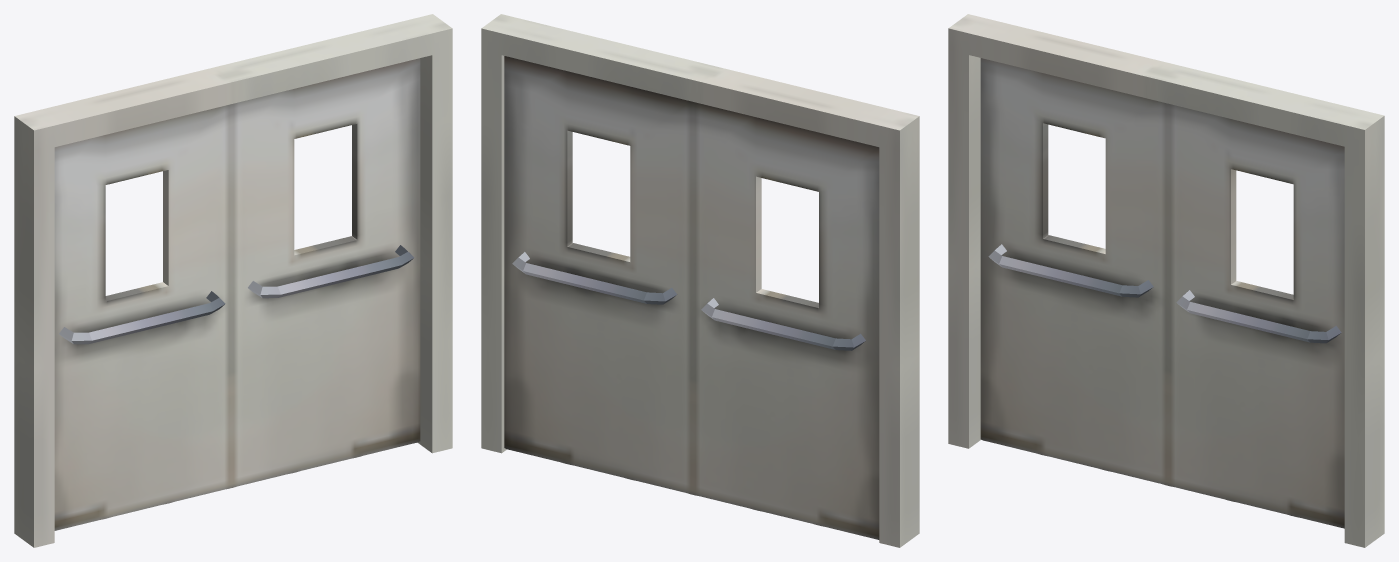
The model's file is DoubleDoor.fbx.
The picture shows the model from 3 angles, left to right: view 1: azimuth 30°, elevation 25°; view 2: azimuth 150°, elevation 25°; view 3: azimuth 330°, elevation 25°; orthographic projection.
Parts seen in each view (by area): view 1: Cube.002, Cube, Cube.001, Cylinder.001, Cylinder.003; view 2: Cube.002, Cube, Cube.001; view 3: Cube, Cube.002, Cube.001, Cylinder.001, Cylinder.003.
Part boxes in pixels (box(x1,y1,x2,y2)): Cube.002: box(231, 58, 420, 487); Cube: box(54, 104, 231, 530); Cube.001: box(14, 14, 452, 547); Cylinder.001: box(59, 291, 225, 344); Cylinder.003: box(248, 245, 414, 298); Cube.002: box(504, 56, 693, 494); Cube: box(693, 102, 879, 539); Cube.001: box(481, 14, 919, 547); Cube: box(980, 58, 1168, 485); Cube.002: box(1168, 103, 1344, 528); Cube.001: box(948, 14, 1384, 547); Cylinder.001: box(988, 244, 1153, 297); Cylinder.003: box(1176, 290, 1341, 343).
Bounding box in the file's own units: 222 × 212 × 32.25.
